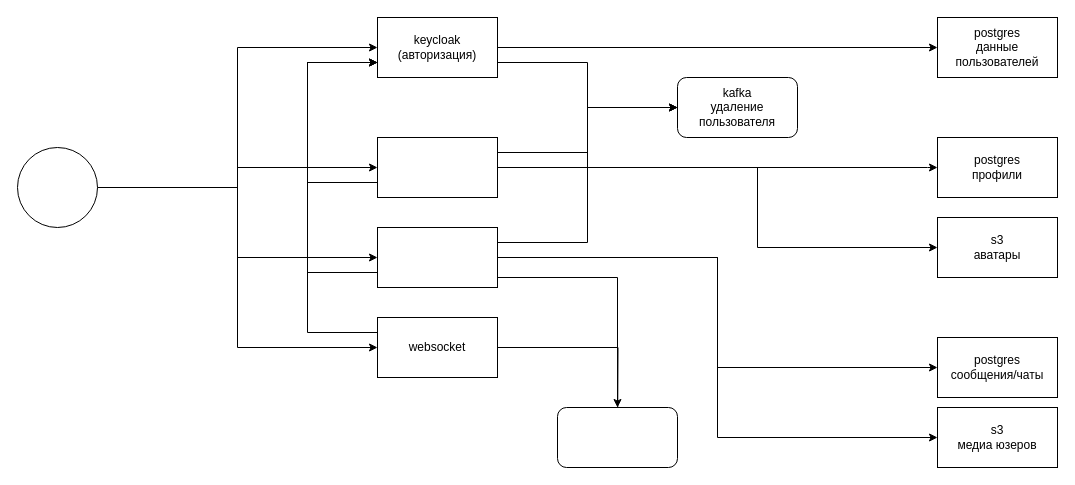
Image size: 1075x485. Some labels were removed from this diagram. The box of each missing label's shape, as (x1, y1, x2, y2) in pixels:
chat: (376, 226, 498, 288)
client: (16, 146, 98, 228)
profile: (376, 136, 498, 198)
redis pub/sub сообщения чтение: (556, 406, 678, 468)
